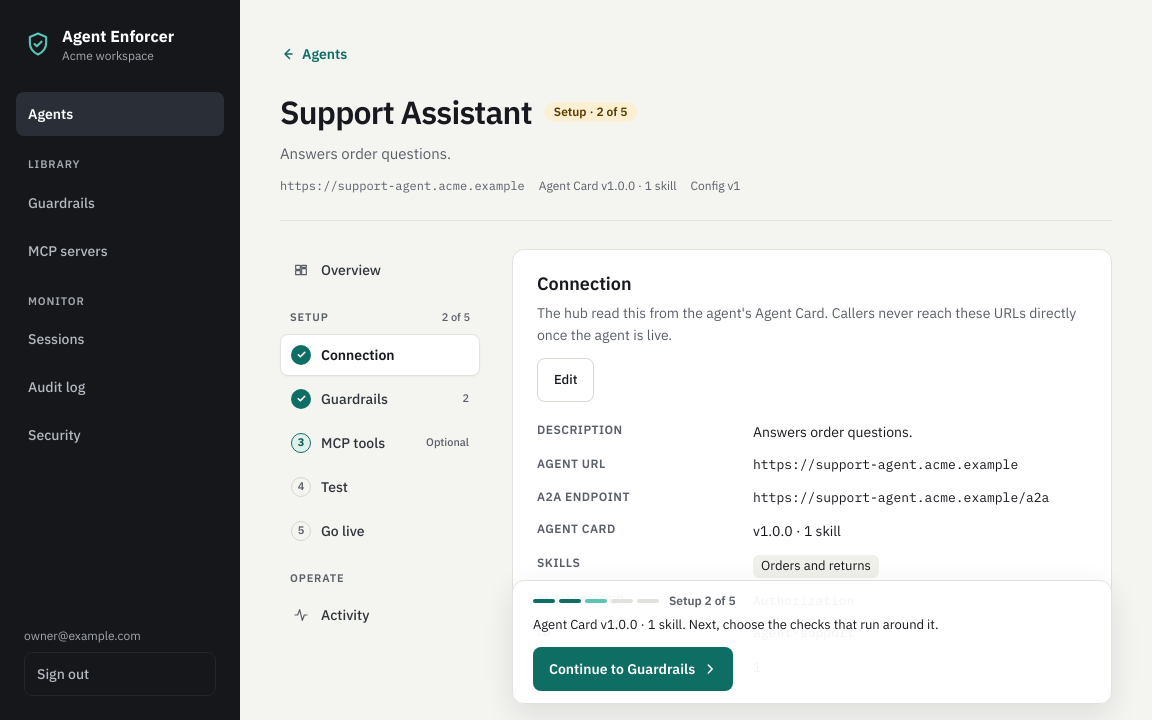
Test: Edit agent connection › opens with the current values and focus on Name
This screenshot has width=1152, height=720.
Click the button "Edit": (566, 380) [537,358,594,402]
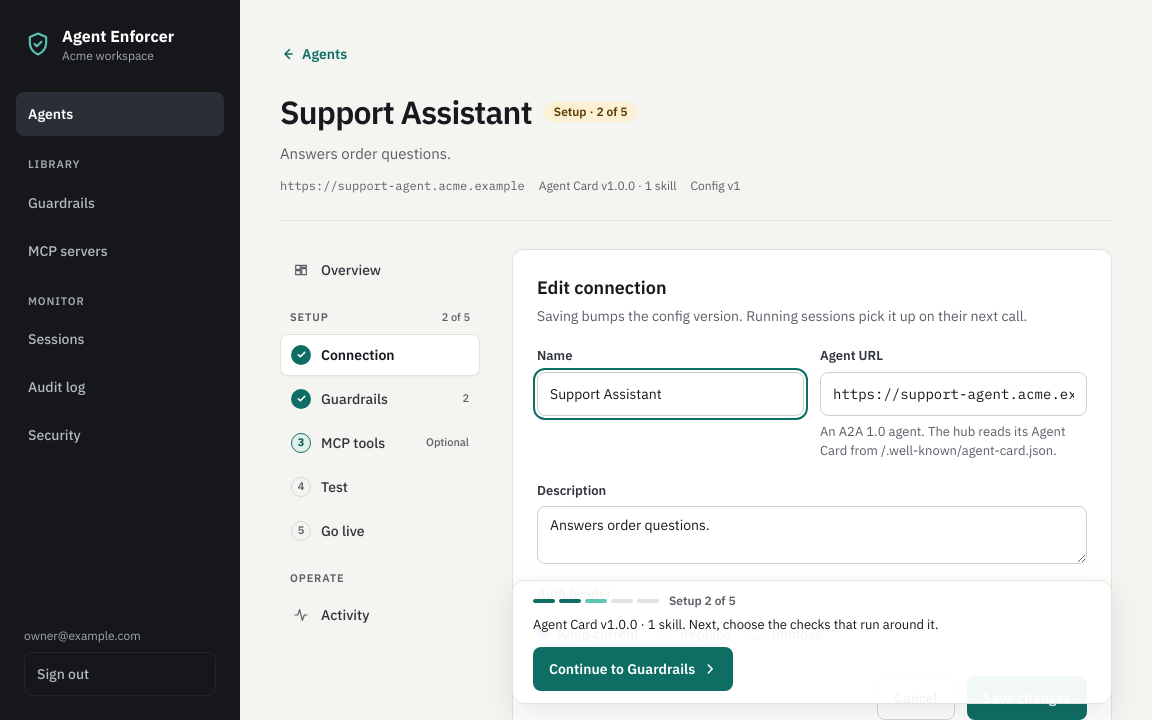
Expected: the radio button labelled "Keep current" is checked, [537,627,550,640]
Expected: the field labelled "Name" holds "Support Assistant", [537,372,804,416]
Expected: the field labelled "Agent URL" holds "https://support-agent.acme.example", [820,372,1087,416]
